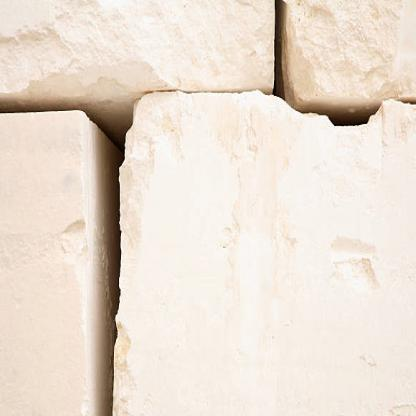Sedimentary_Limestone: (103, 101, 416, 415), (1, 0, 278, 116), (1, 111, 101, 411), (280, 0, 416, 106)
